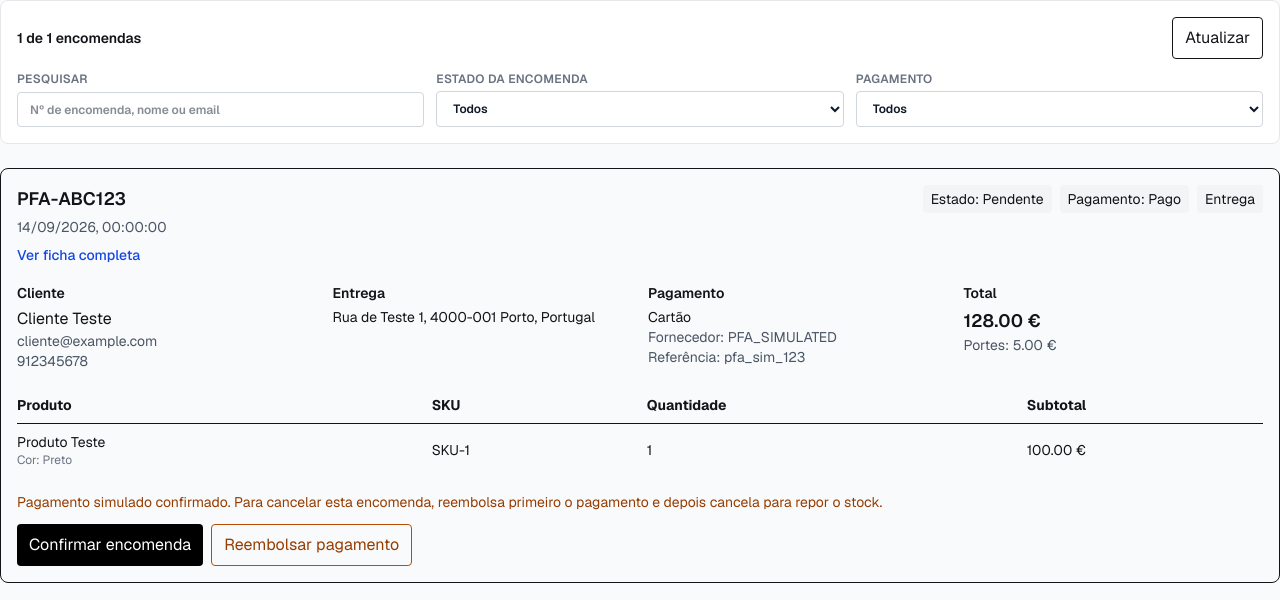
Scenario: Admin Orders Client › confirma uma encomenda paga sem enviar estado arbitrário
Click the button "Confirmar encomenda" at (110, 545), box x1=17 y1=524 x2=203 y2=566
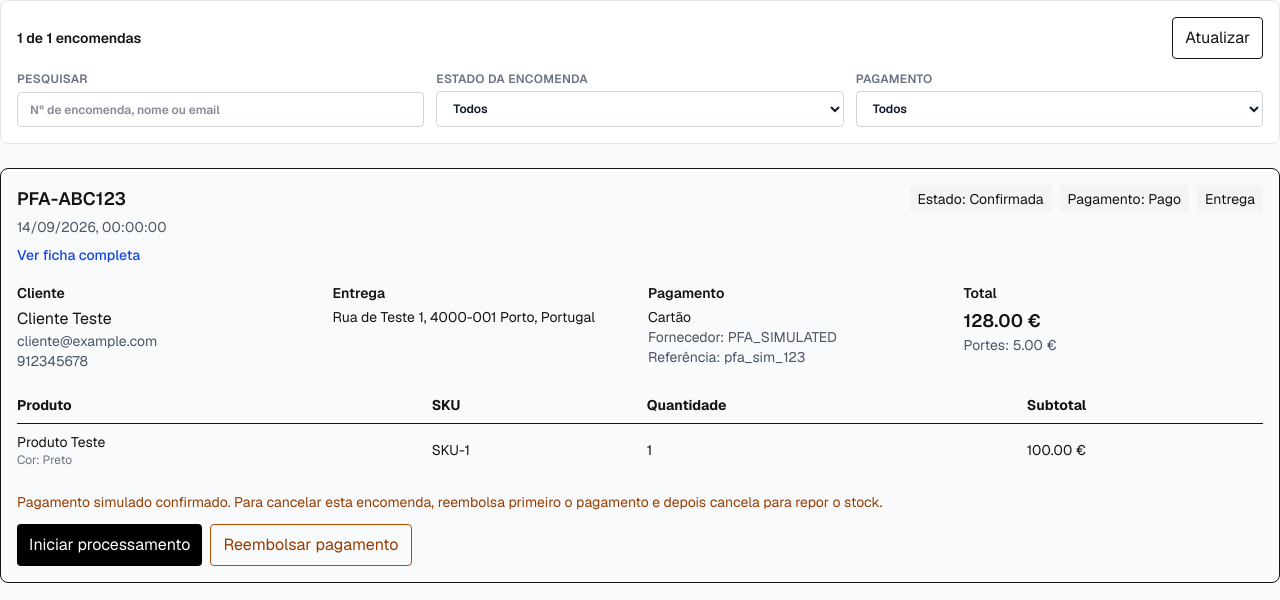
Now the text "Estado: Confirmada" is shown, box x1=910 y1=185 x2=1052 y2=213
Now the button "Iniciar processamento" is shown, box x1=17 y1=524 x2=202 y2=566
